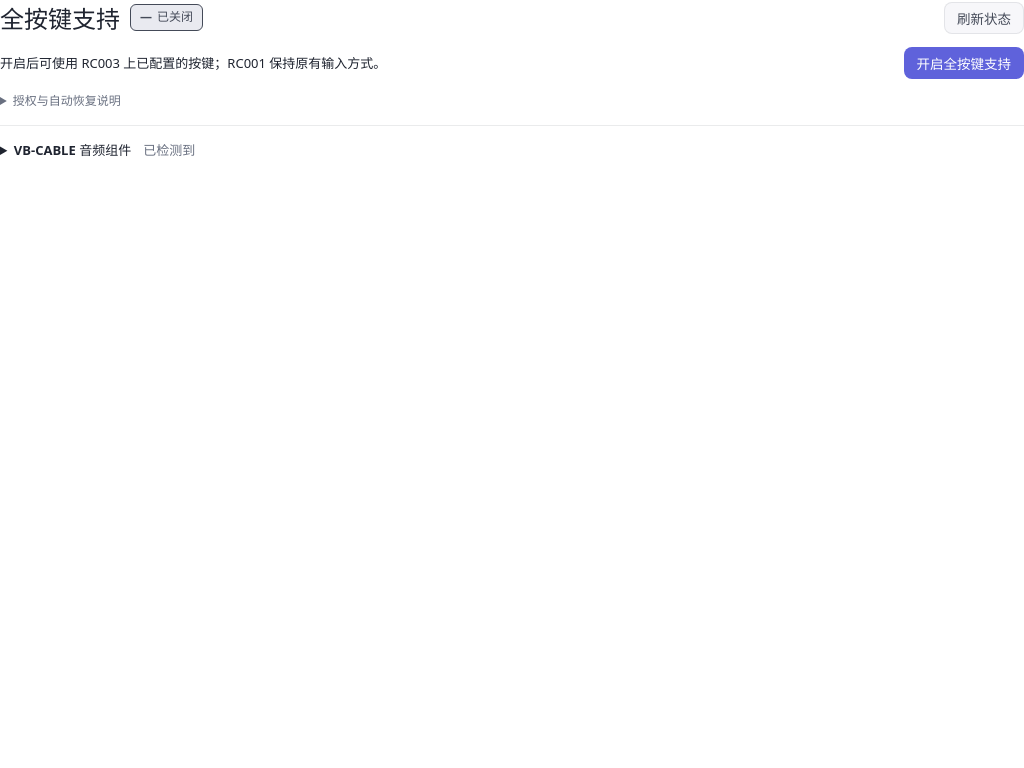
unified button support and audio component › shows the backend failure reason without repeating a generic authorization error when enabled=false
Click the button "开启全按键支持" at x=964, y=63, box [904,47,1023,79]
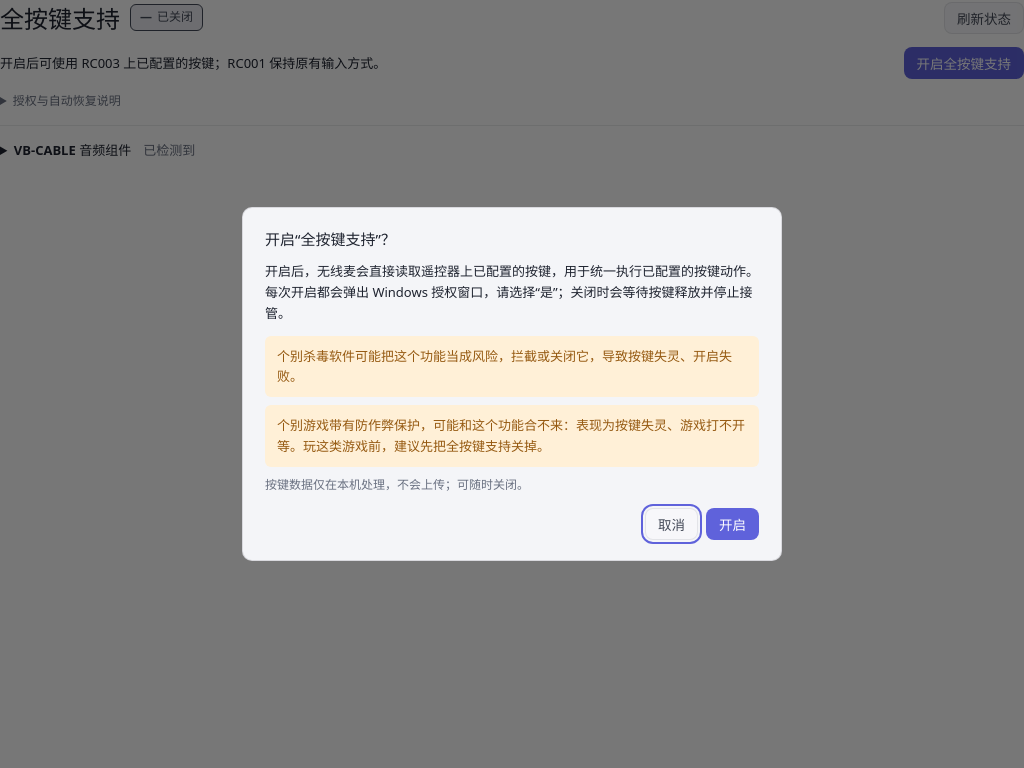
Click the button "开启" at x=732, y=524, box [706,508,759,540]
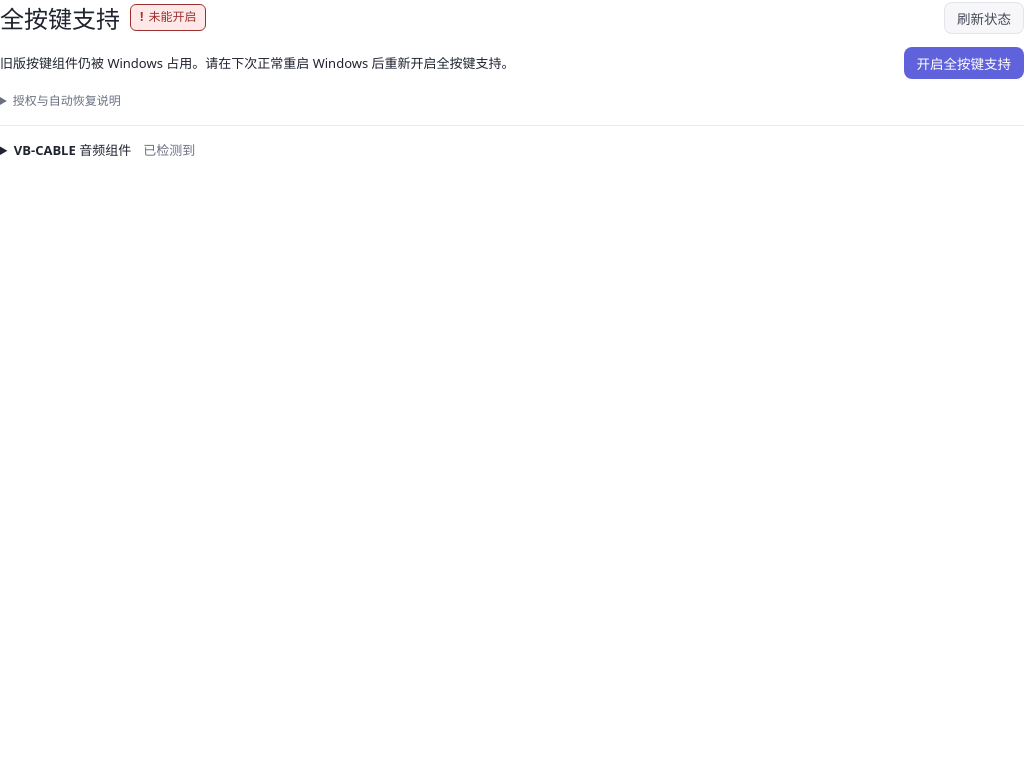
Result: the element with class "capture-state-copy" reads "旧版按键组件仍被 Windows 占用。请在下次正常重启 Windows 后重新开启全按键支持。" at [0,54,515,72]
Result: the message "! 未能开启" is shown at [130,4,206,31]
